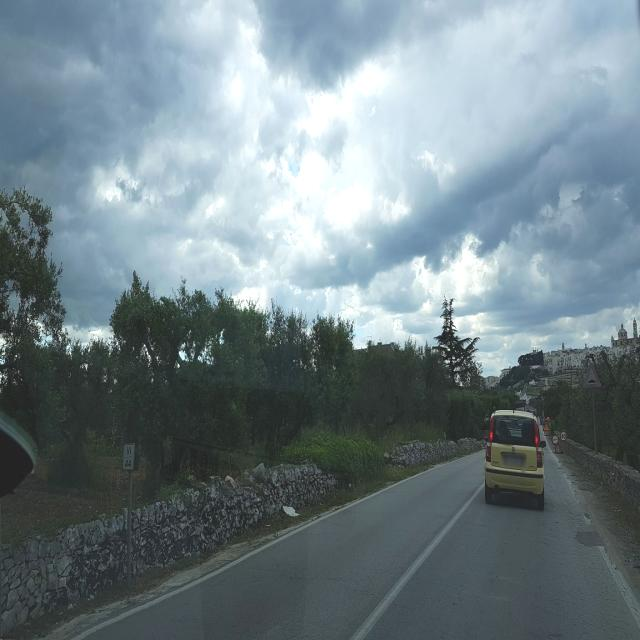car: (484, 406, 546, 509)
